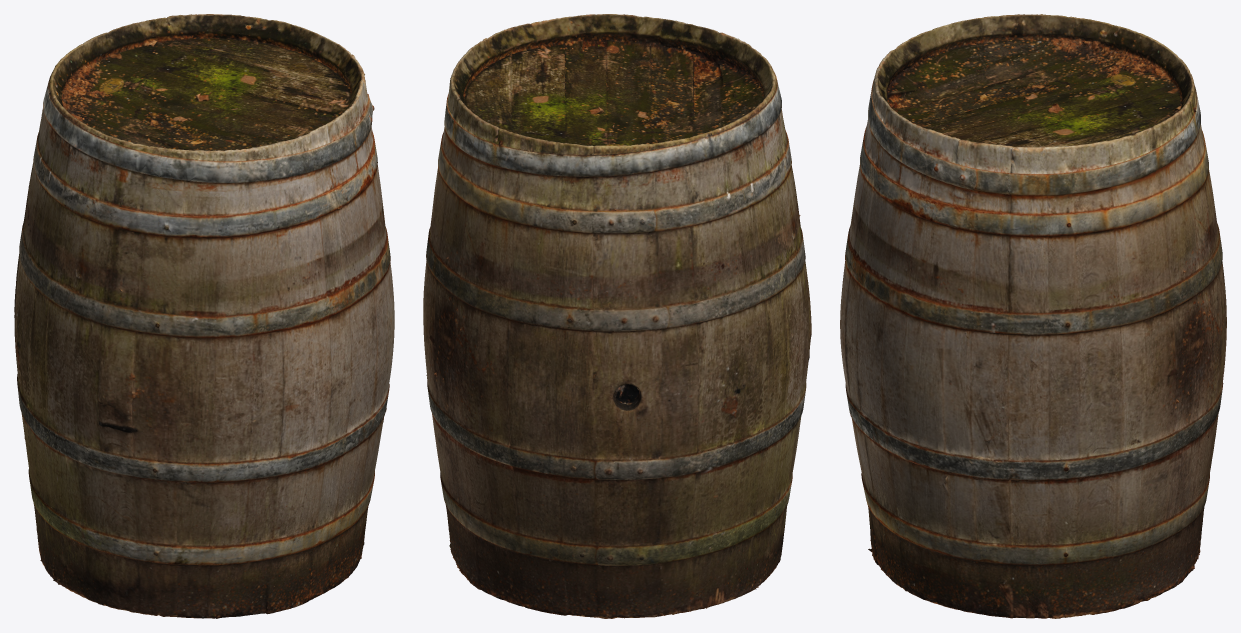
File: rustic_rotten_wooden_barrel_whiskey_cask.glb
The picture shows the model from 3 angles, left to right: view 1: azimuth 30°, elevation 25°; view 2: azimuth 150°, elevation 25°; view 3: azimuth 270°, elevation 25°; orthographic projection.
Visible parts, largest first — view 1: Barrel_1; view 2: Barrel_1; view 3: Barrel_1.
Boxes of the visible parts, bbox=[...] form: Barrel_1: bbox=[14, 14, 394, 618]; Barrel_1: bbox=[423, 14, 811, 618]; Barrel_1: bbox=[840, 14, 1226, 618].
Size of the model in its own units: 0.6844 by 0.9359 by 0.6916.
Materials: 1 (1 with a texture image).
